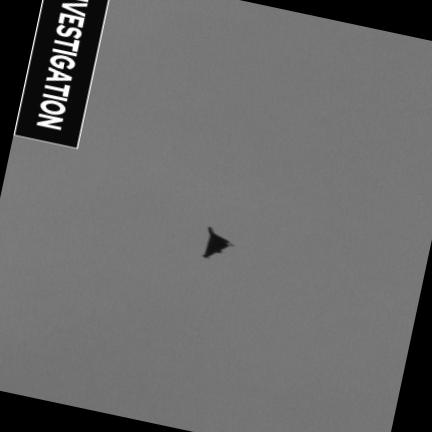Shahed: (202, 228, 232, 258)
